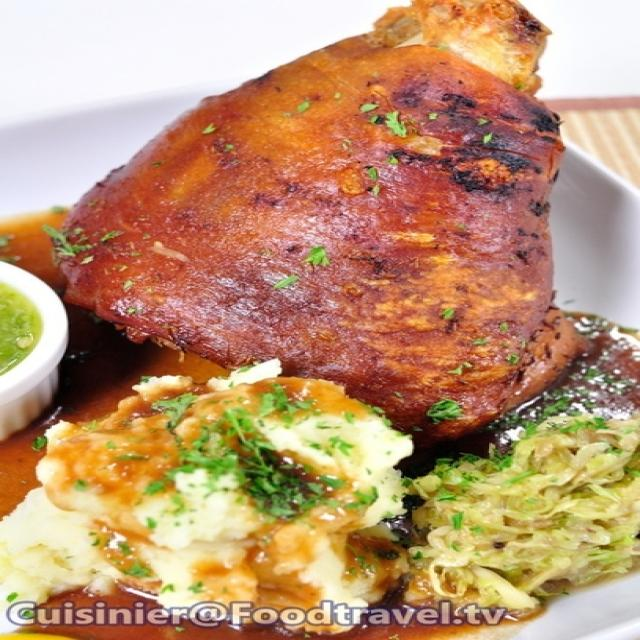猪肉菜式: (33, 34, 607, 613)
